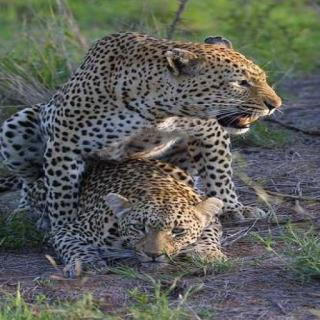-: (22, 12, 275, 176), (54, 155, 252, 276)
